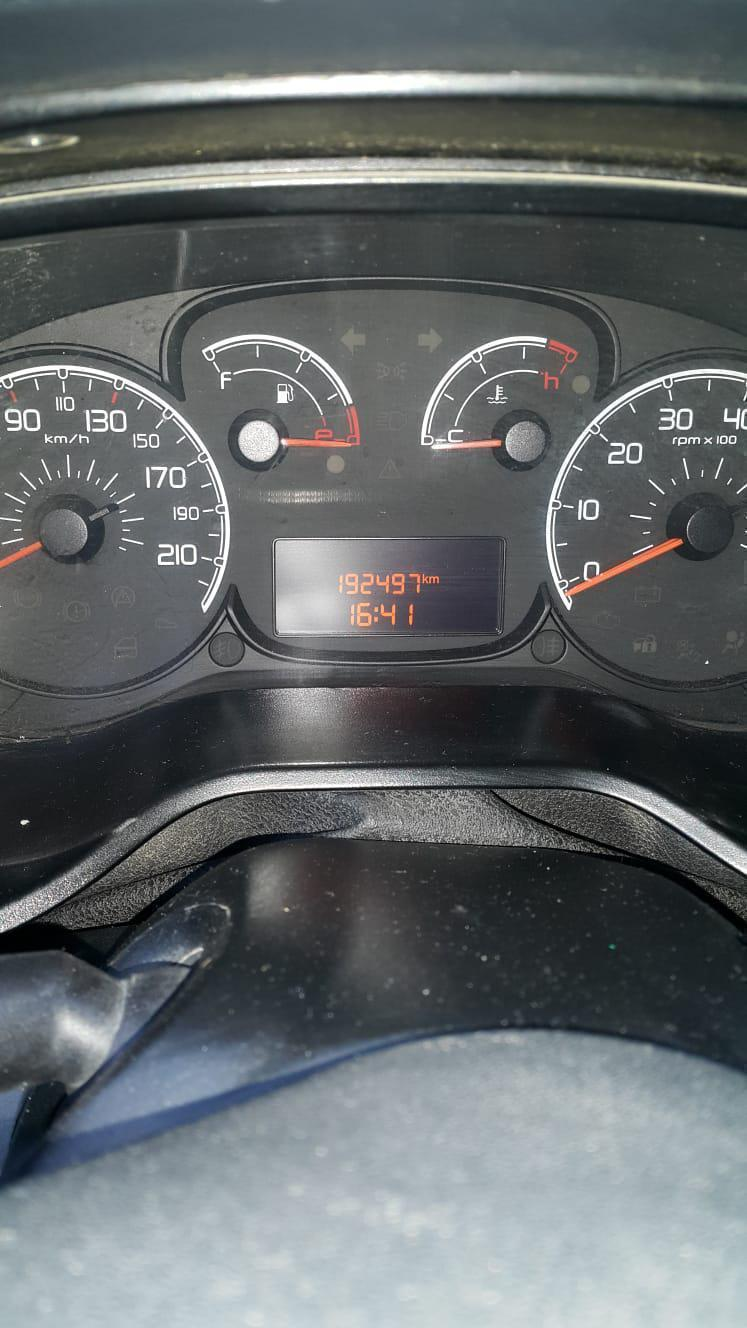1: (407, 600, 416, 629), (336, 571, 344, 595), (349, 601, 355, 626)
2: (359, 570, 374, 596)
4: (380, 601, 397, 625), (375, 572, 390, 594)
6: (356, 602, 370, 627)
7: (409, 570, 421, 592)
9: (345, 571, 358, 595), (392, 572, 405, 596)
X: (428, 574, 438, 585), (374, 603, 378, 627), (422, 572, 428, 585)
odometer: (271, 534, 507, 638)
